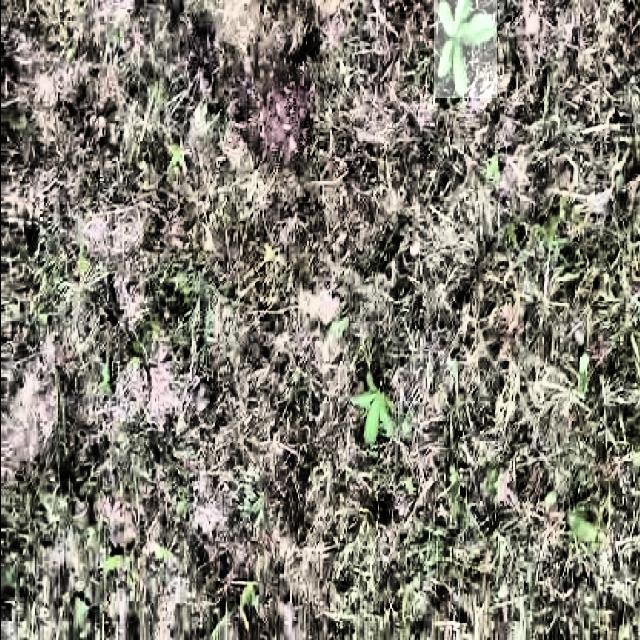Weeds: (433, 0, 496, 98)
